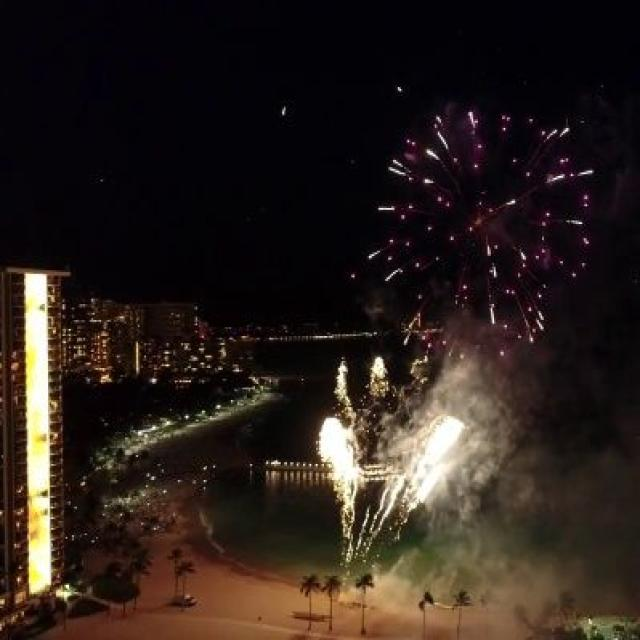Smoke: (440, 439, 640, 623)
